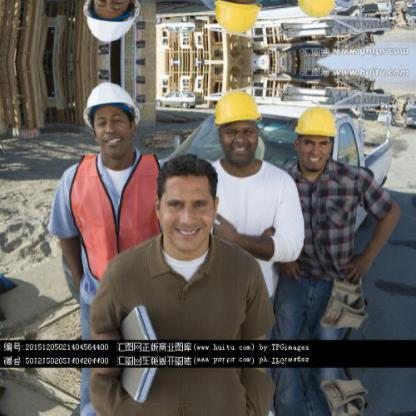helmet: (72, 70, 143, 164), (206, 83, 261, 168), (71, 0, 143, 53), (288, 100, 340, 172), (205, 0, 261, 40), (288, 0, 341, 23)
